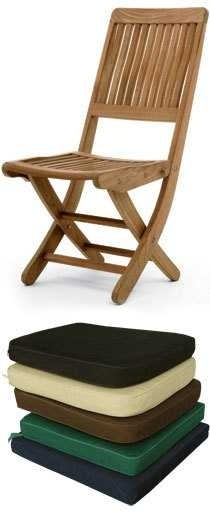obstacle: (2, 8, 207, 303)
